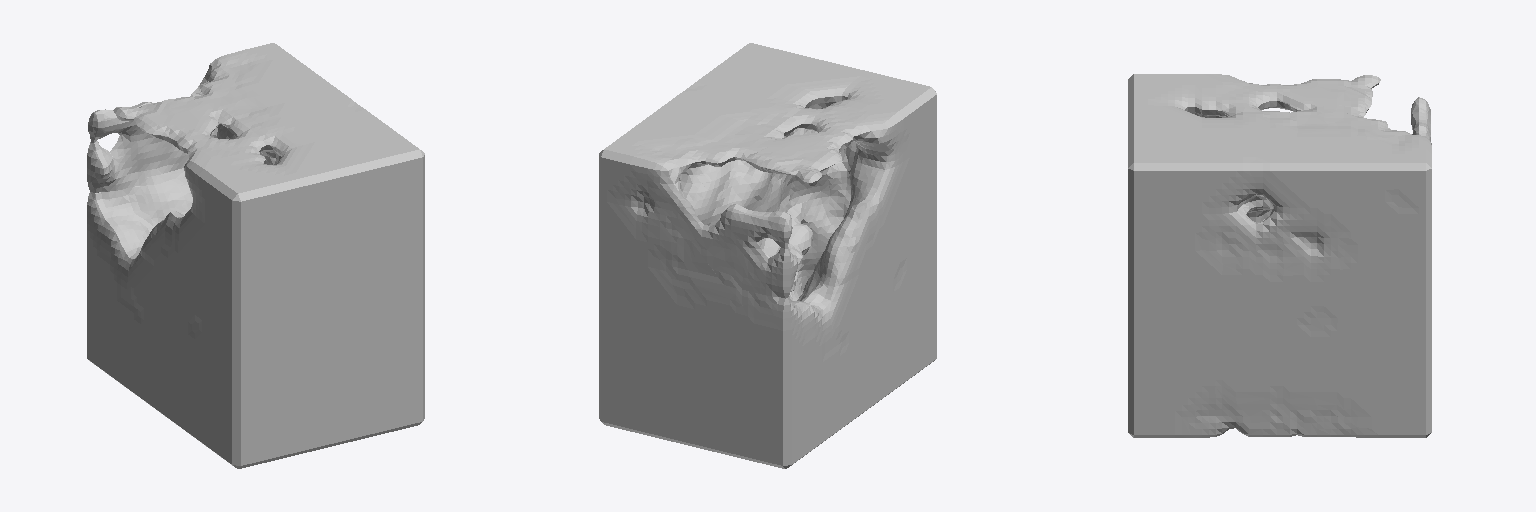
3 views of the same model, side by side, from view 1: azimuth 30°, elevation 25°; view 2: azimuth 150°, elevation 25°; view 3: azimuth 270°, elevation 25° (orthographic).
Visible parts, largest first — view 1: Liquid_Domain; view 2: Liquid_Domain; view 3: Liquid_Domain.
Boxes of the visible parts, <box> form: Liquid_Domain: <box>87,43,424,468</box>; Liquid_Domain: <box>599,43,936,468</box>; Liquid_Domain: <box>1128,74,1431,437</box>.
Bounding box in the file's own units: 79.09 × 108 × 108.